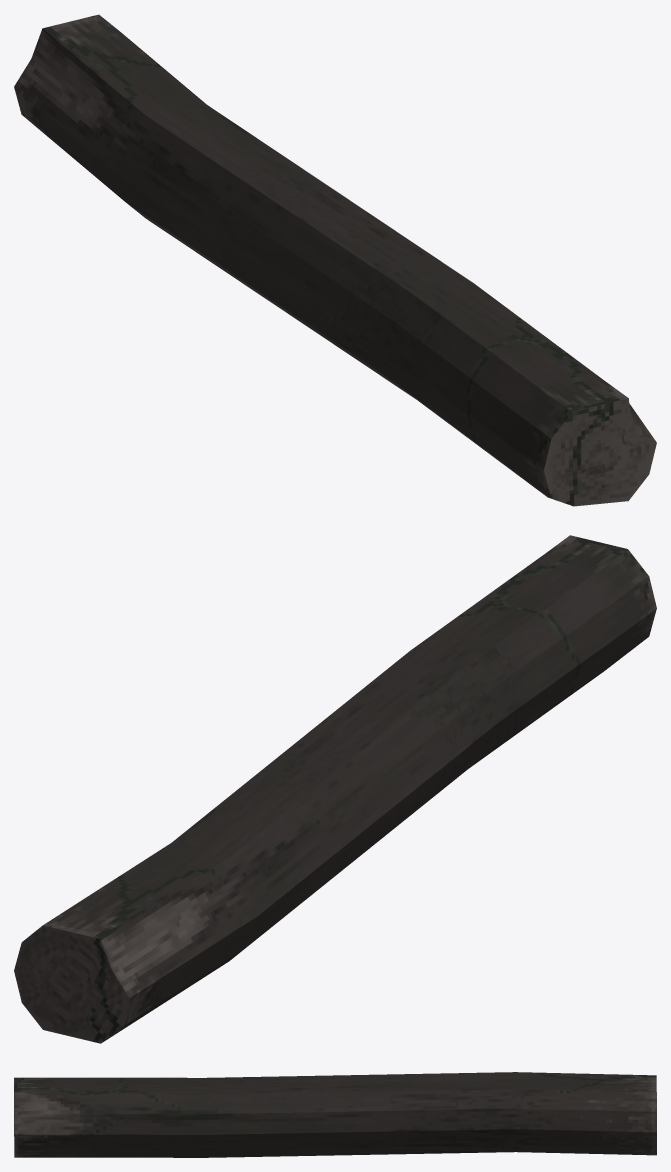
File: treelog1.fbx
3 renders of one model, top to bottom at view 1: azimuth 30°, elevation 25°; view 2: azimuth 150°, elevation 25°; view 3: azimuth 270°, elevation 25°, orthographic. The views are drawn at different scales.
Parts seen in each view (by area): view 1: treelog1; view 2: treelog1; view 3: treelog1.
Boxes of the visible parts, x1,y1,x2,y2 form: treelog1: [14, 14, 656, 506]; treelog1: [14, 535, 656, 1043]; treelog1: [14, 1072, 656, 1157].
Bounding box in the file's own units: 1.16 × 0.8768 × 8.01.
